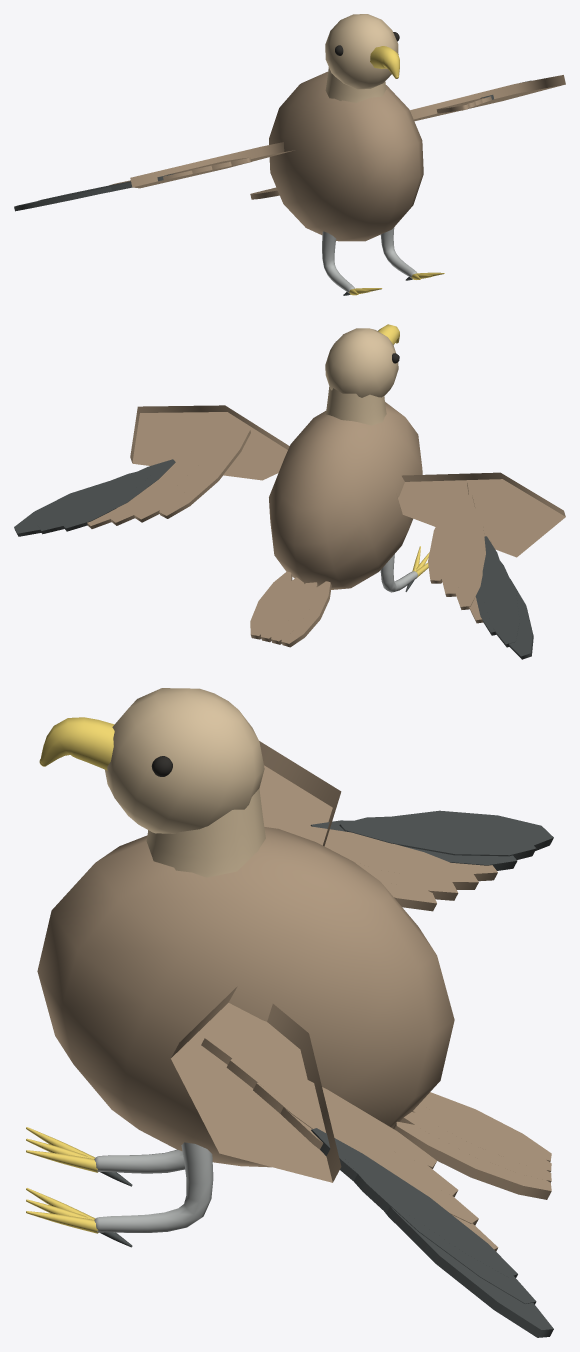
The model's file is birds-and-flying-creatures-golden-eagle-26ab5d99__20587.glb.
3 views of the same model, one above another, from view 1: azimuth 30°, elevation 25°; view 2: azimuth 150°, elevation 25°; view 3: azimuth 270°, elevation 25° (orthographic). The views are drawn at different scales.
Parts seen in each view (by area): view 1: golden-eagle; view 2: golden-eagle; view 3: golden-eagle.
Part boxes in pixels (left/top/right/bottom): golden-eagle: left=14, top=14, right=565, bottom=295; golden-eagle: left=14, top=324, right=565, bottom=659; golden-eagle: left=26, top=688, right=553, bottom=1337.
Size of the model in its own units: 1.99 by 0.9644 by 0.8803.
